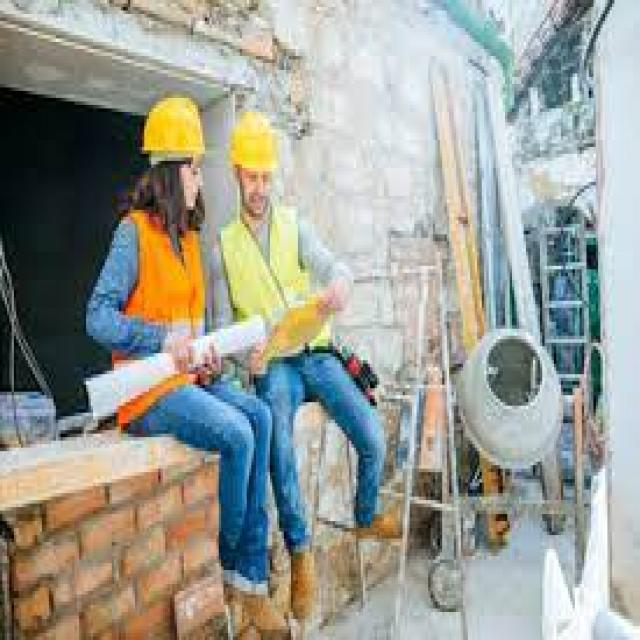Reflective-Jacket: (214, 200, 328, 382), (102, 206, 212, 382)
Safety-Helmet: (132, 84, 212, 178), (221, 101, 291, 192)
